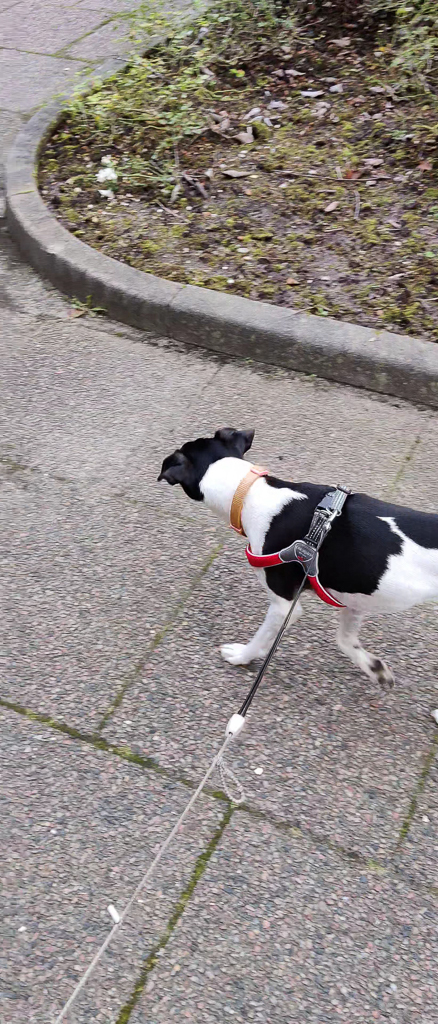Dog: (150, 415, 438, 732)
